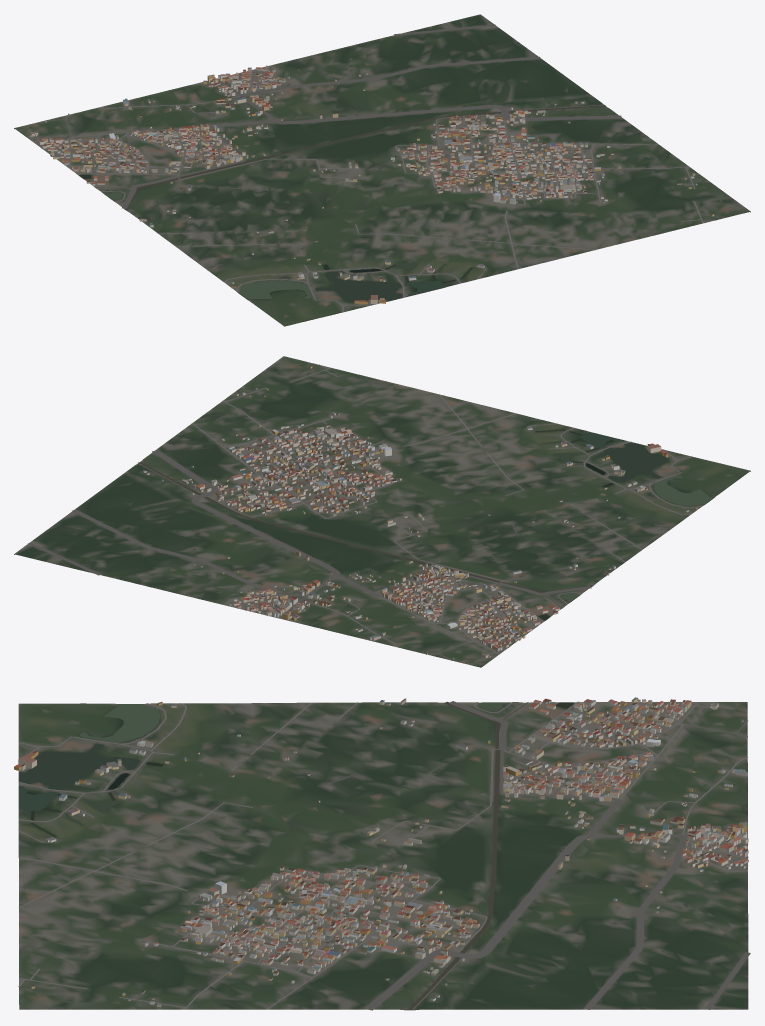
3 views of the same model, one above another, from view 1: azimuth 30°, elevation 25°; view 2: azimuth 150°, elevation 25°; view 3: azimuth 270°, elevation 25° (orthographic). The views are drawn at different scales.
Parts seen in each view (by area): view 1: ground, buildings, roads, water; view 2: ground, buildings, roads, water; view 3: ground, buildings, roads, water.
Part boxes in pixels (x1,y1,x2,y2): ground: [14, 14, 750, 326]; buildings: [30, 65, 714, 304]; roads: [32, 24, 716, 312]; water: [79, 105, 605, 302]; ground: [14, 356, 750, 667]; buildings: [143, 365, 698, 659]; roads: [28, 364, 703, 660]; water: [138, 429, 712, 620]; ground: [18, 702, 748, 1010]; buildings: [14, 697, 748, 1007]; roads: [18, 701, 750, 1010]; water: [19, 701, 573, 1009].
Bounding box in the file's own units: 1411 × 24.14 × 1417.
